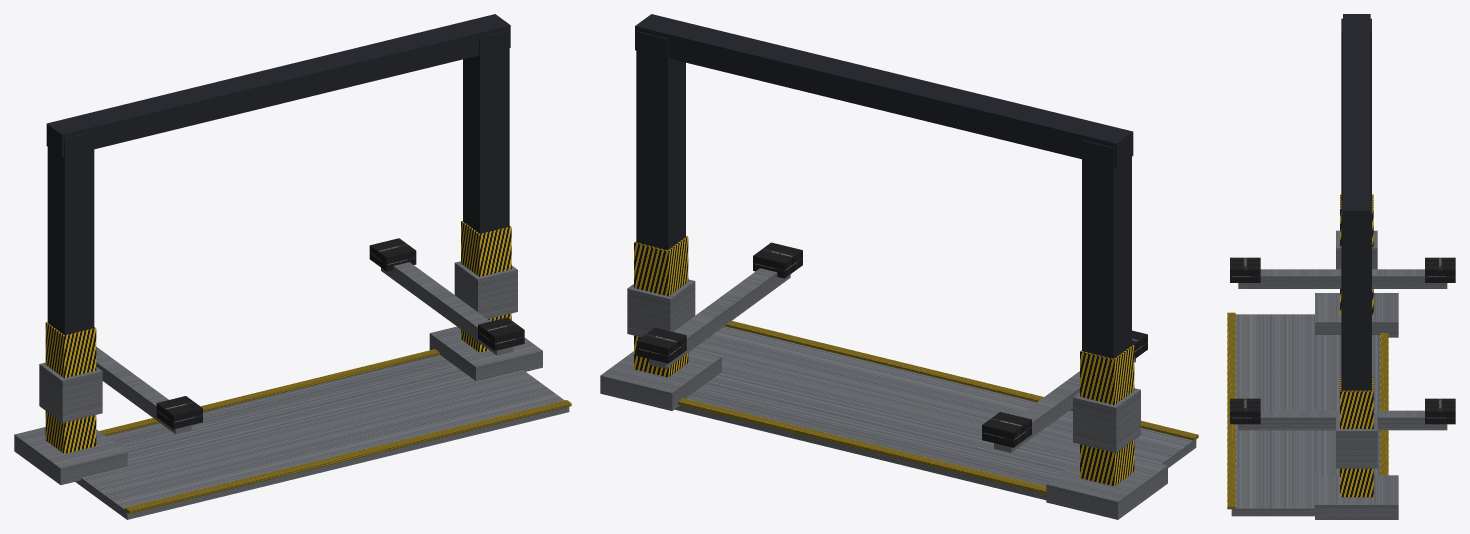
File: lift_2post.obj
3 renders of one model, left to right at view 1: azimuth 30°, elevation 25°; view 2: azimuth 150°, elevation 25°; view 3: azimuth 270°, elevation 25°, orthographic. The views are drawn at different scales.
Bounding box in the file's own units: 3.6 × 2.43 × 1.64.
Materials: 4 (4 with a texture image).
